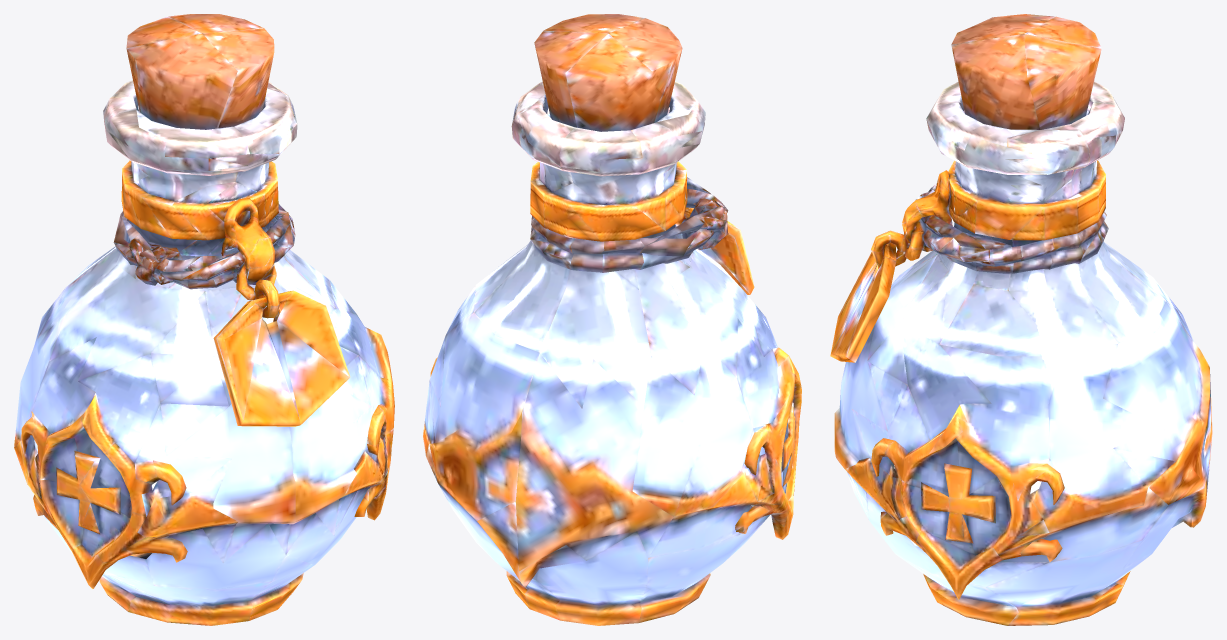
The model's file is mondsalbei_elixier.glb.
The picture shows the model from 3 angles, left to right: view 1: azimuth 30°, elevation 25°; view 2: azimuth 150°, elevation 25°; view 3: azimuth 270°, elevation 25°; orthographic projection.
Parts seen in each view (by area): view 1: heiltrank; view 2: heiltrank; view 3: heiltrank.
Part boxes in pixels (left/top/right/bottom): heiltrank: left=14, top=14, right=394, bottom=625; heiltrank: left=423, top=14, right=801, bottom=625; heiltrank: left=830, top=14, right=1212, bottom=625.
Size of the model in its own units: 0.1893 by 0.3 by 0.1881.
1 material, 1 textured.
